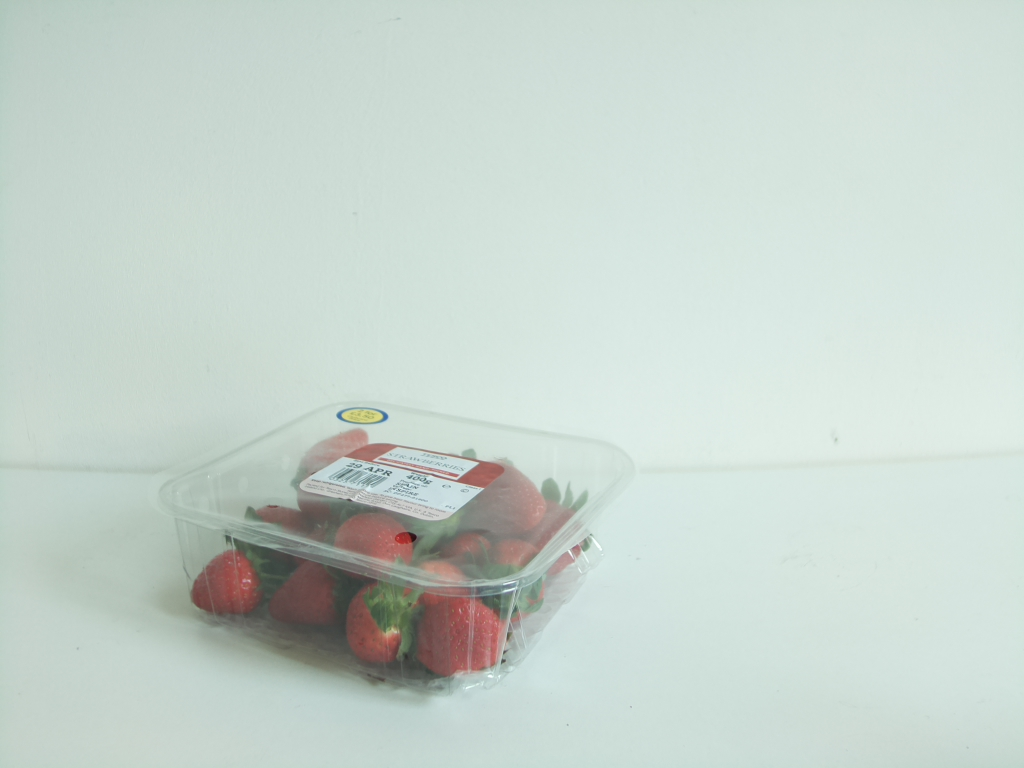soft-fruit: (161, 398, 631, 701)
